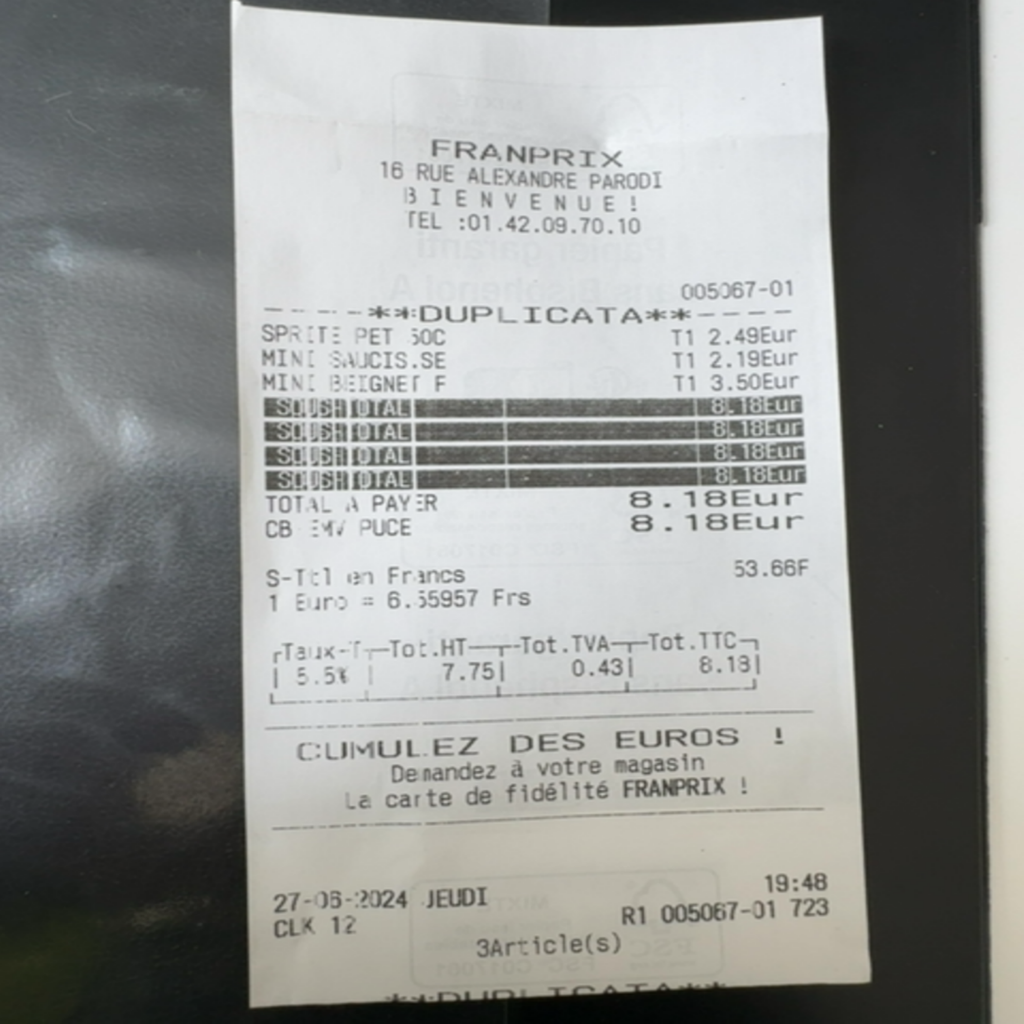recipt: (229, 2, 869, 1007)
